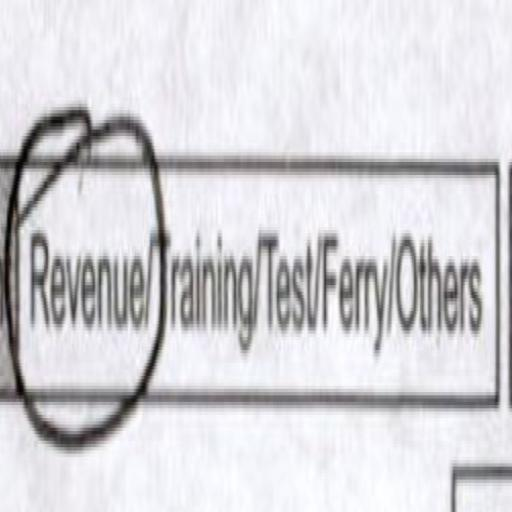check: (20, 60, 148, 498)
